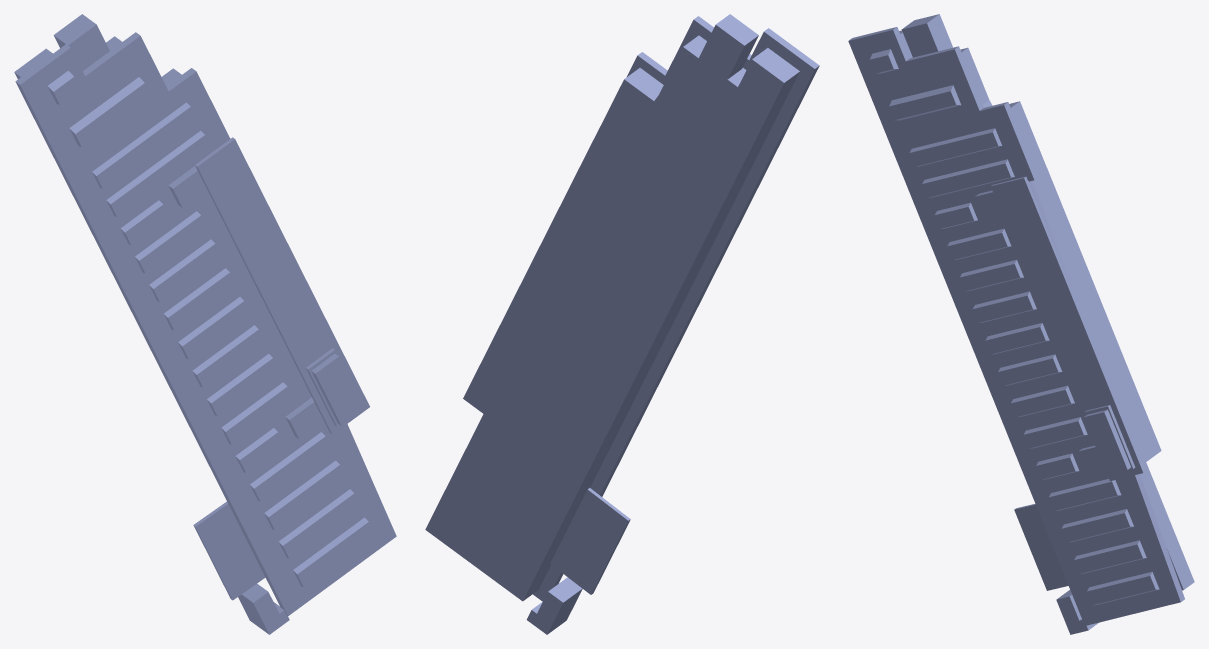
3 renders of one model, left to right at view 1: azimuth 30°, elevation 25°; view 2: azimuth 150°, elevation 25°; view 3: azimuth 330°, elevation 25°, orthographic. The views are drawn at different scales.
Parts seen in each view (by area): view 1: EW1; view 2: EW1; view 3: EW1.
Part boxes in pixels (left/top/right/bottom): EW1: left=14, top=14, right=396, bottom=634; EW1: left=425, top=14, right=819, bottom=634; EW1: left=848, top=14, right=1194, bottom=634.
Bounding box in the file's own units: 88.43 × 145 × 14.32.
